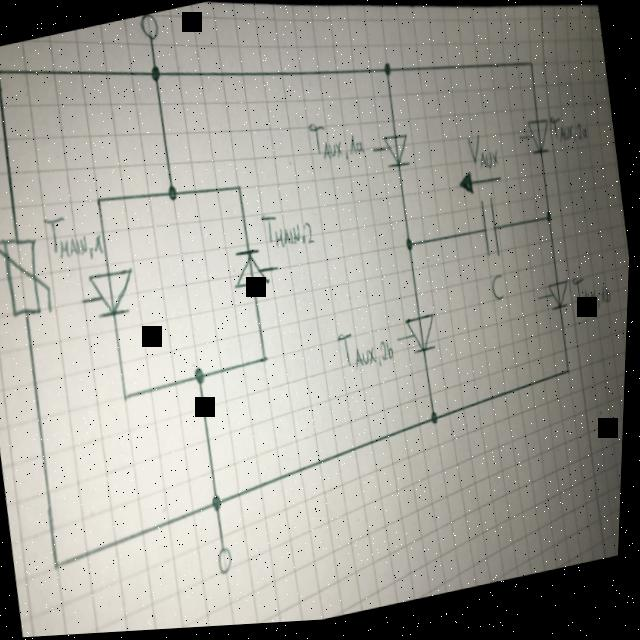capacitor: (477, 198, 507, 267)
junction: (194, 367, 210, 388), (149, 64, 163, 85), (213, 495, 227, 515), (167, 184, 181, 204), (382, 64, 394, 82), (432, 414, 443, 432), (406, 240, 416, 258), (55, 558, 66, 574), (545, 215, 555, 231), (262, 354, 273, 367), (95, 194, 105, 206), (236, 184, 245, 195), (125, 392, 133, 404), (567, 371, 574, 383), (528, 64, 535, 75), (0, 63, 3, 78)
terminal: (136, 14, 162, 46), (219, 545, 241, 581)
text: (42, 206, 108, 271), (306, 114, 369, 173), (336, 327, 399, 380), (260, 206, 319, 260), (572, 276, 616, 320), (549, 114, 591, 155), (465, 135, 502, 180), (491, 277, 510, 308)
thyristor: (87, 264, 142, 323), (230, 247, 275, 296), (404, 316, 443, 362), (379, 134, 415, 178), (525, 121, 554, 164), (547, 285, 576, 319)
